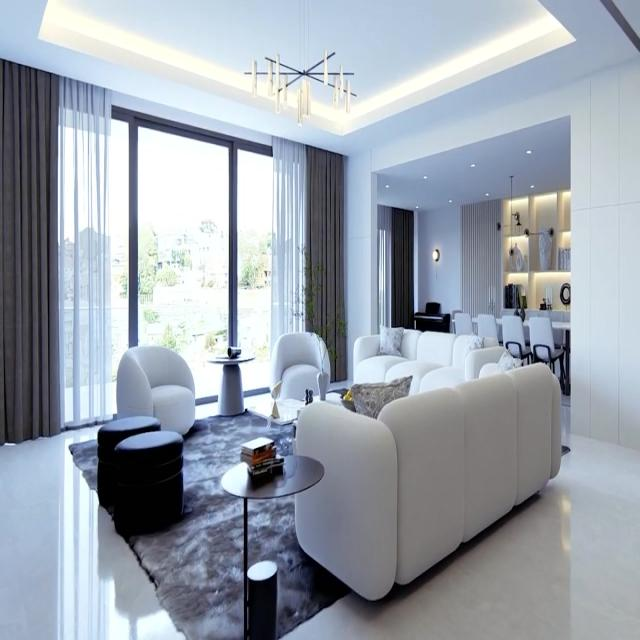obstacle: (293, 358, 562, 602), (220, 454, 324, 638), (352, 327, 507, 395), (112, 344, 196, 435), (267, 331, 331, 426), (205, 351, 255, 416)
